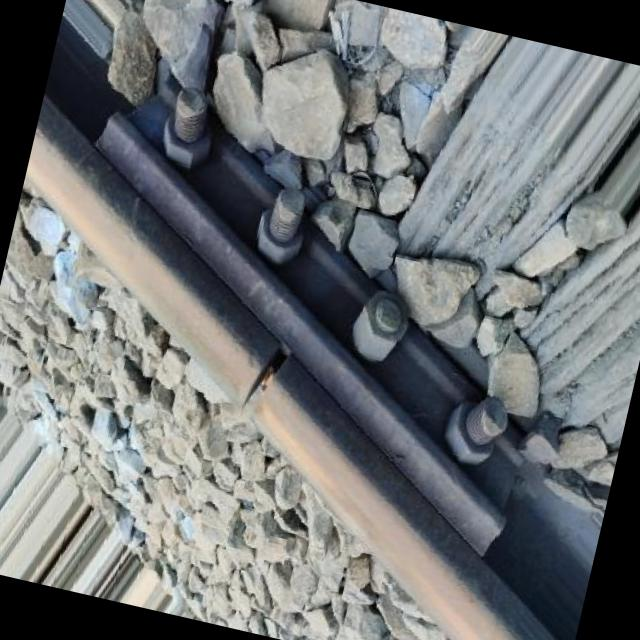defective: (38, 248, 532, 500)
